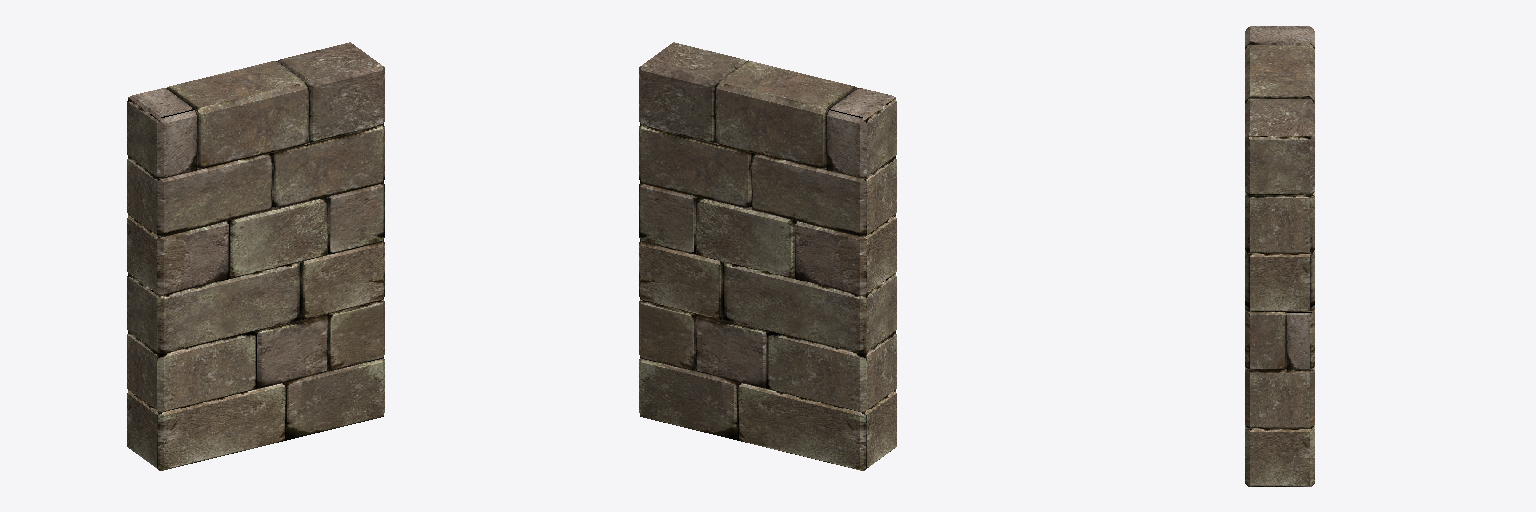
3 renders of one model, left to right at view 1: azimuth 30°, elevation 25°; view 2: azimuth 150°, elevation 25°; view 3: azimuth 270°, elevation 25°, orthographic.
Parts seen in each view (by area): view 1: Box002; view 2: Box002; view 3: Box002.
Part boxes in pixels (bbox=[...]): Box002: bbox=[127, 42, 384, 470]; Box002: bbox=[639, 42, 896, 470]; Box002: bbox=[1245, 26, 1314, 486].
Bounding box in the file's own units: 2.04 × 3.02 × 0.54.
Materials: 1 (1 with a texture image).